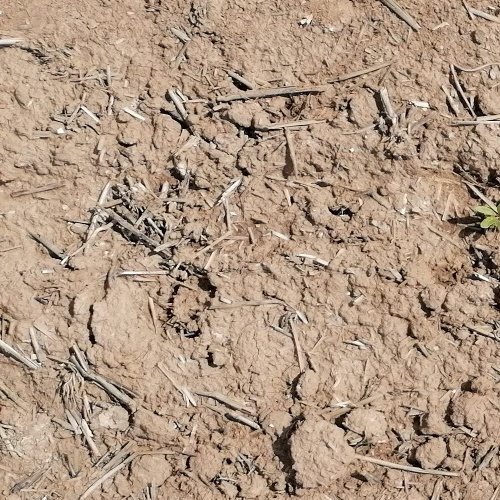beet: (475, 202, 500, 230)
